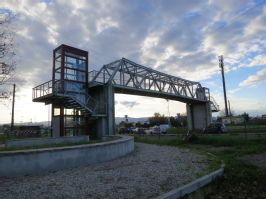bridge: (31, 43, 219, 112)
